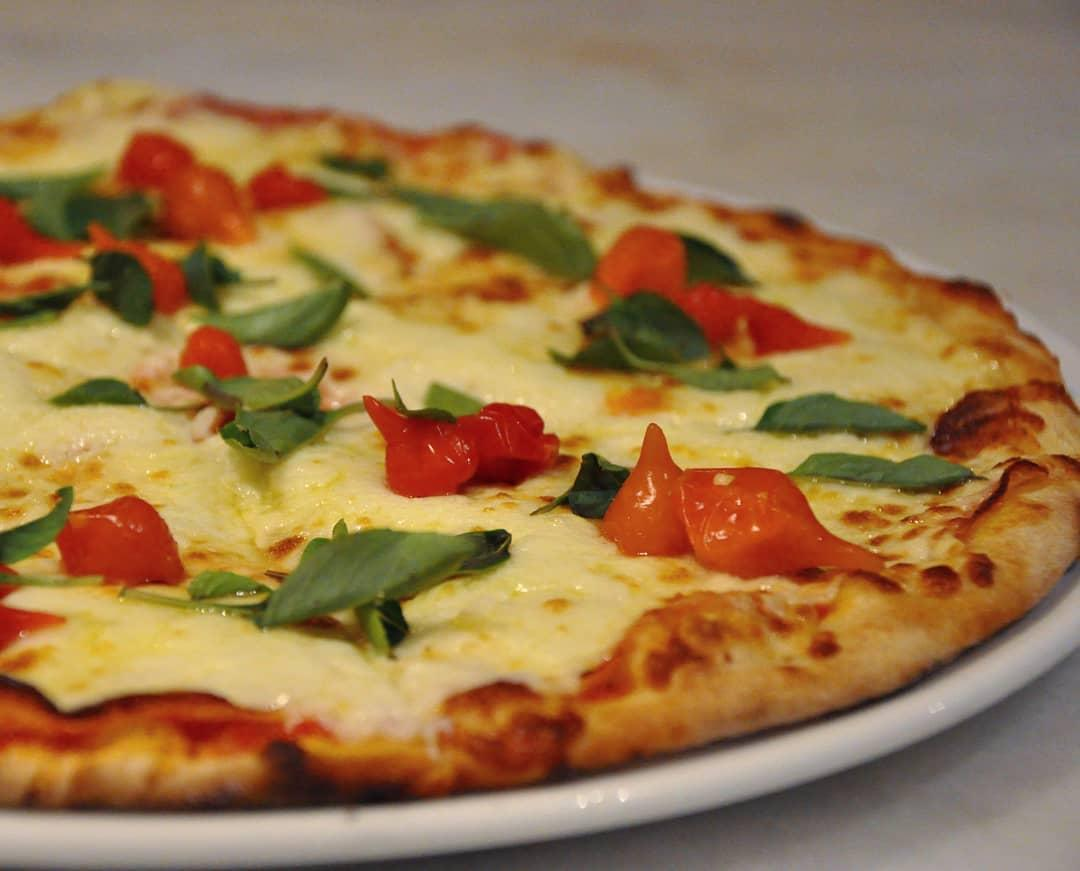Basil: (209, 525, 506, 652), (395, 177, 595, 300), (66, 371, 329, 454), (0, 164, 152, 244), (569, 303, 705, 376), (223, 283, 364, 346), (791, 446, 975, 494), (750, 389, 930, 434), (0, 491, 68, 583), (93, 251, 154, 331), (0, 284, 89, 324), (186, 251, 244, 308)
Pizza: (0, 85, 1080, 809)
Tomatoes: (615, 420, 873, 580), (600, 226, 851, 354), (364, 391, 570, 501), (124, 136, 323, 243), (65, 493, 184, 589), (0, 199, 79, 269), (178, 319, 248, 378)
